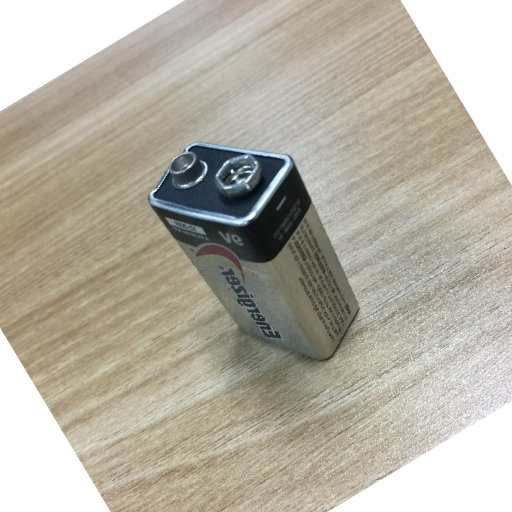Battery_3: (137, 131, 376, 382)
